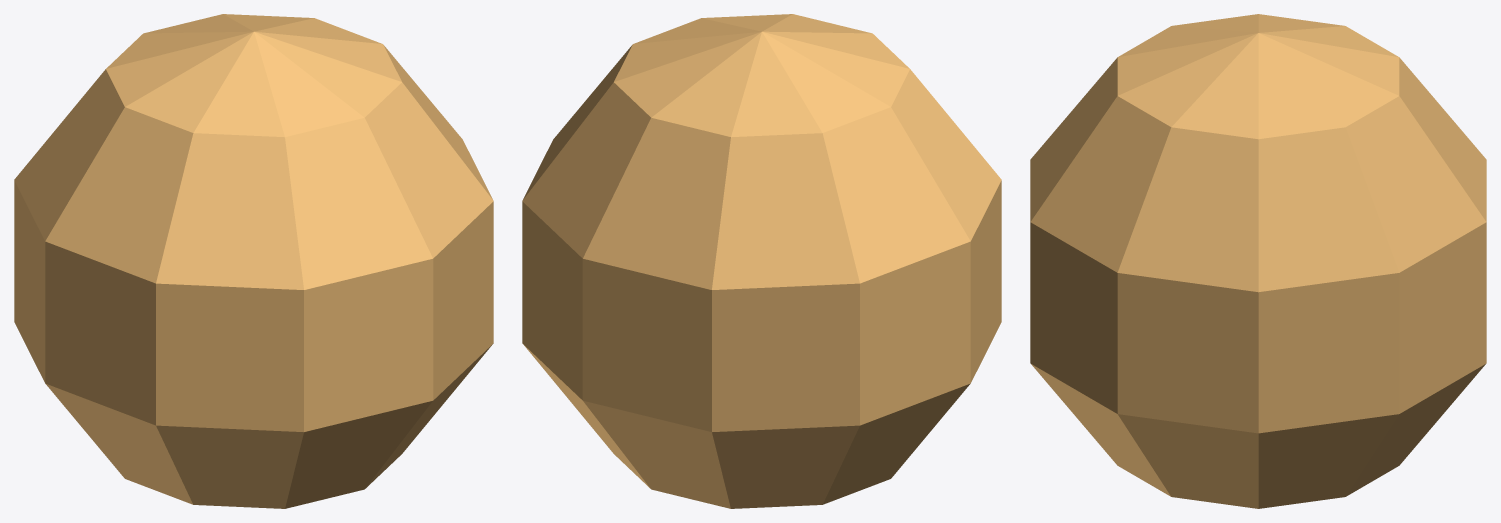
Rendered from estela_ascua.glb.
3 renders of one model, left to right at view 1: azimuth 30°, elevation 25°; view 2: azimuth 150°, elevation 25°; view 3: azimuth 270°, elevation 25°, orthographic.
Parts seen in each view (by area): view 1: estela_ascua; view 2: estela_ascua; view 3: estela_ascua.
Boxes of the visible parts, bbox=[...] form: estela_ascua: bbox=[14, 14, 493, 508]; estela_ascua: bbox=[522, 14, 1001, 508]; estela_ascua: bbox=[1030, 14, 1486, 508].
Size of the model in its own units: 0.3424 by 0.36 by 0.3256.
